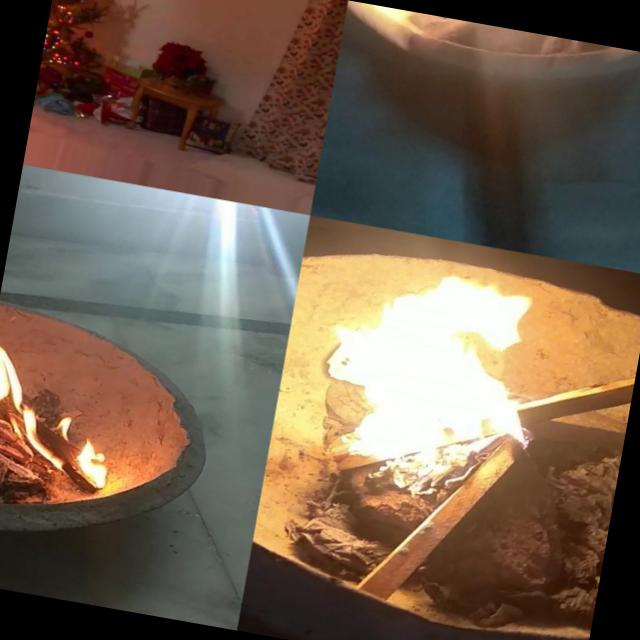fire: (296, 220, 568, 499), (0, 318, 131, 493)
